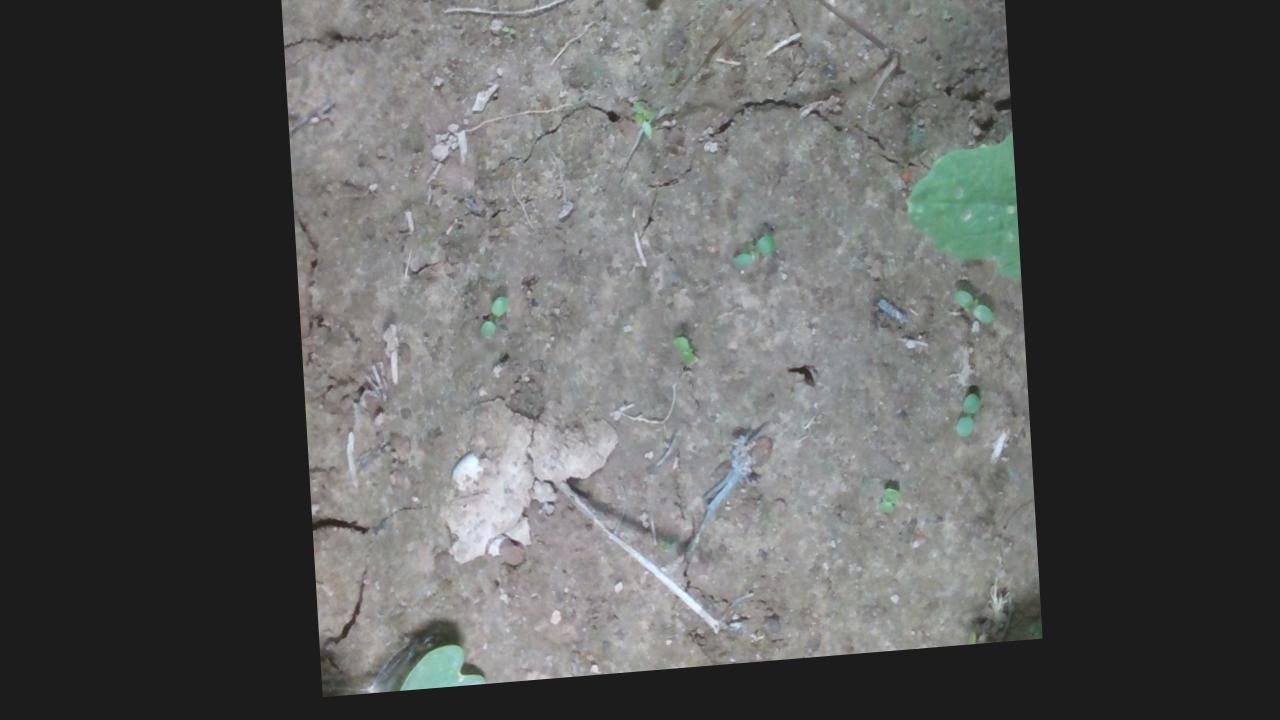weed: (471, 301, 505, 353), (870, 500, 893, 535)
